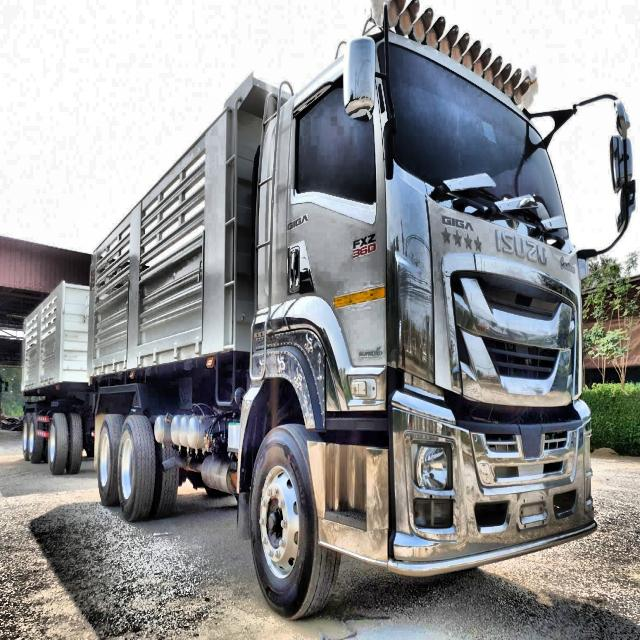trailer: (19, 0, 596, 631)
